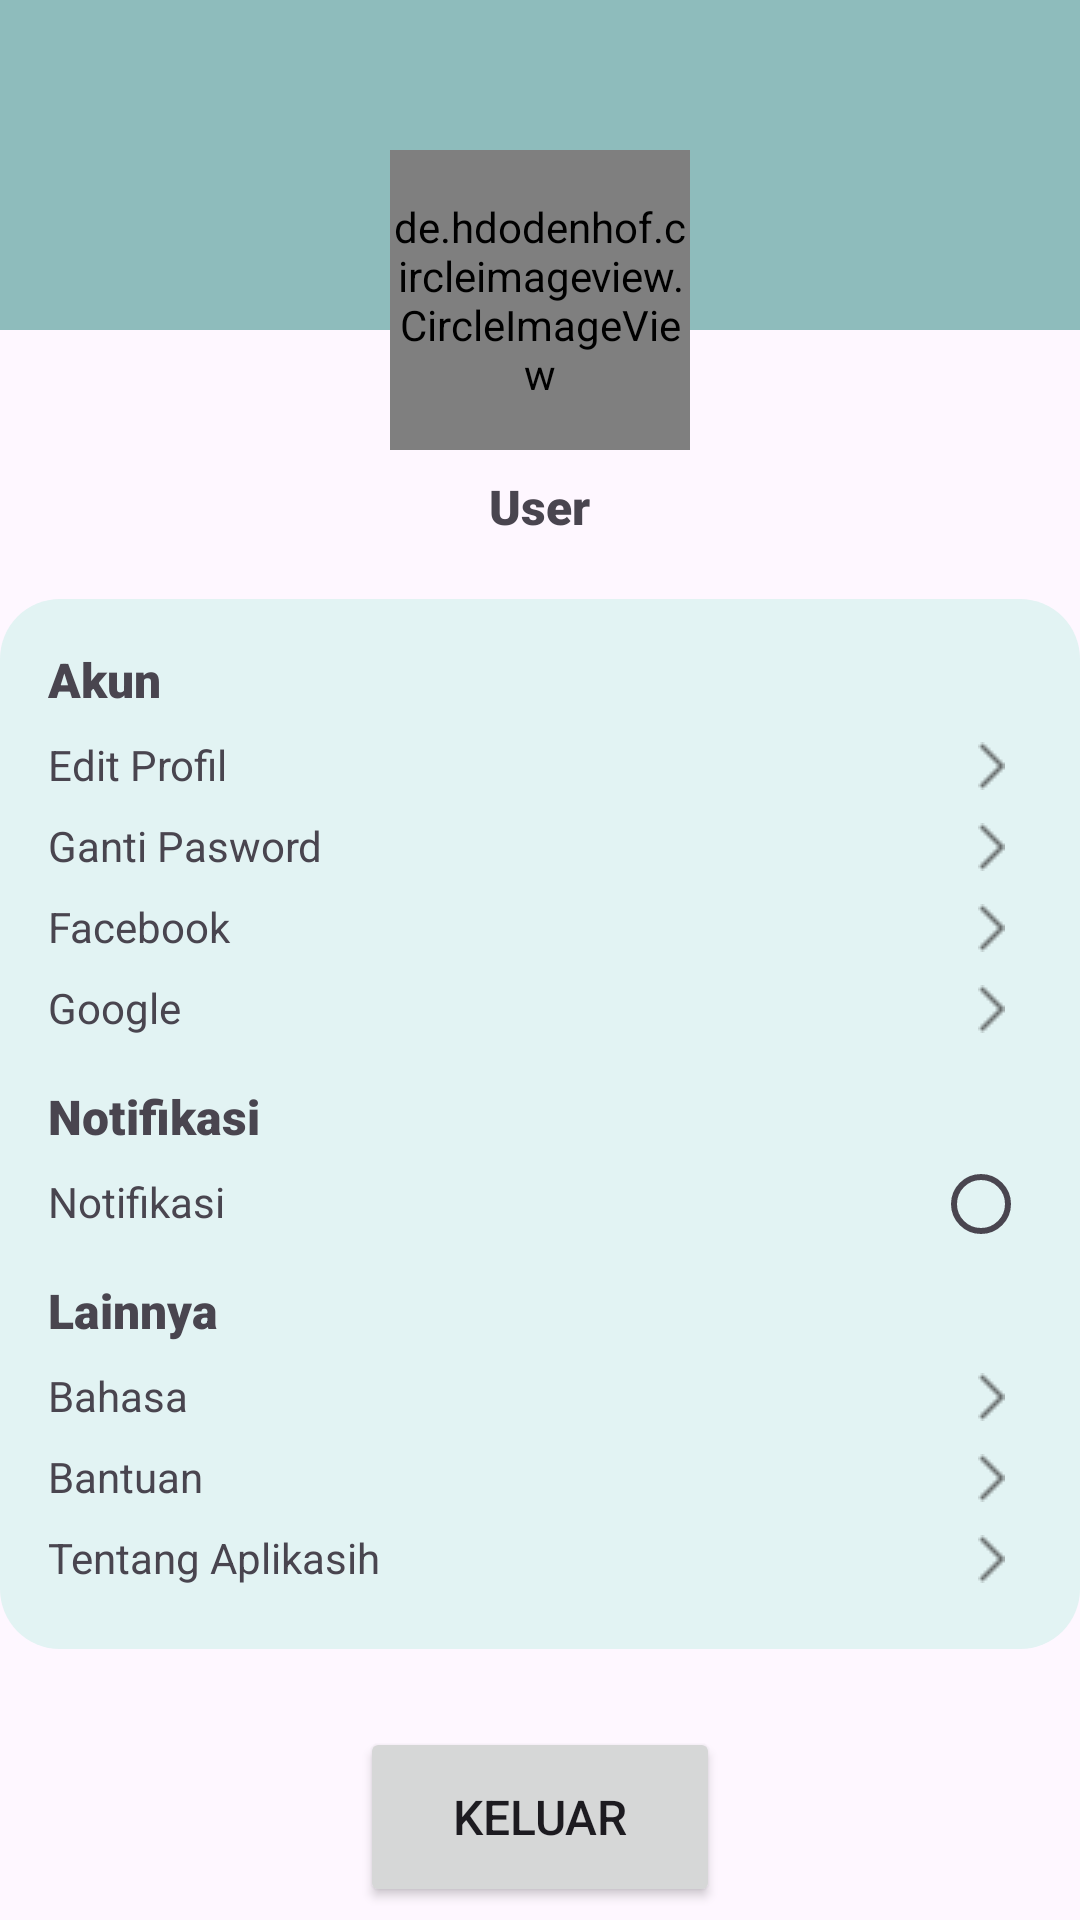

Icons on this 1080 × 1920 Android screen, each with its box as (x1, y1, x2, y2):
panah: (978, 742, 1005, 790), (978, 823, 1005, 871), (978, 904, 1005, 952), (978, 985, 1005, 1033), (978, 1373, 1005, 1421), (978, 1454, 1005, 1502), (978, 1535, 1005, 1583)
